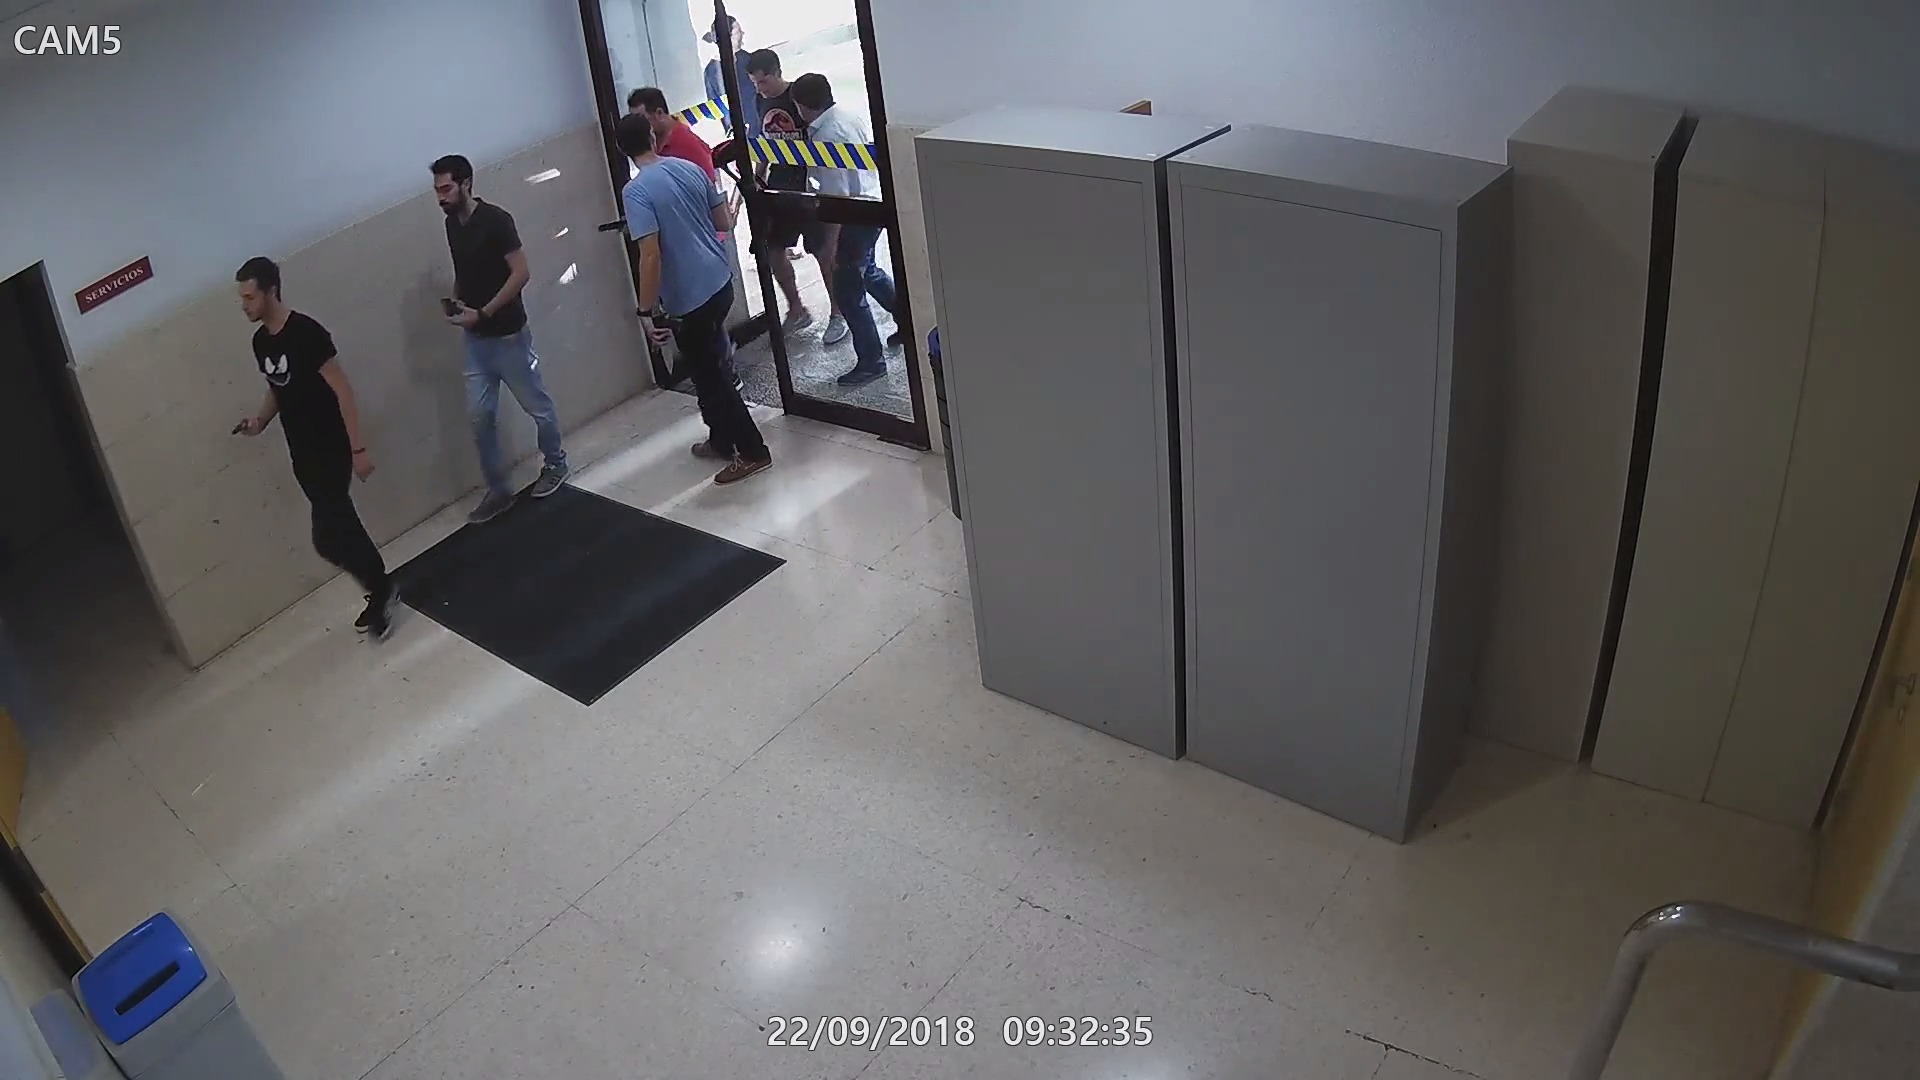Handgun: (647, 311, 686, 356), (439, 294, 477, 327), (227, 415, 265, 440), (597, 211, 633, 237)
Knife: (647, 310, 678, 376)
